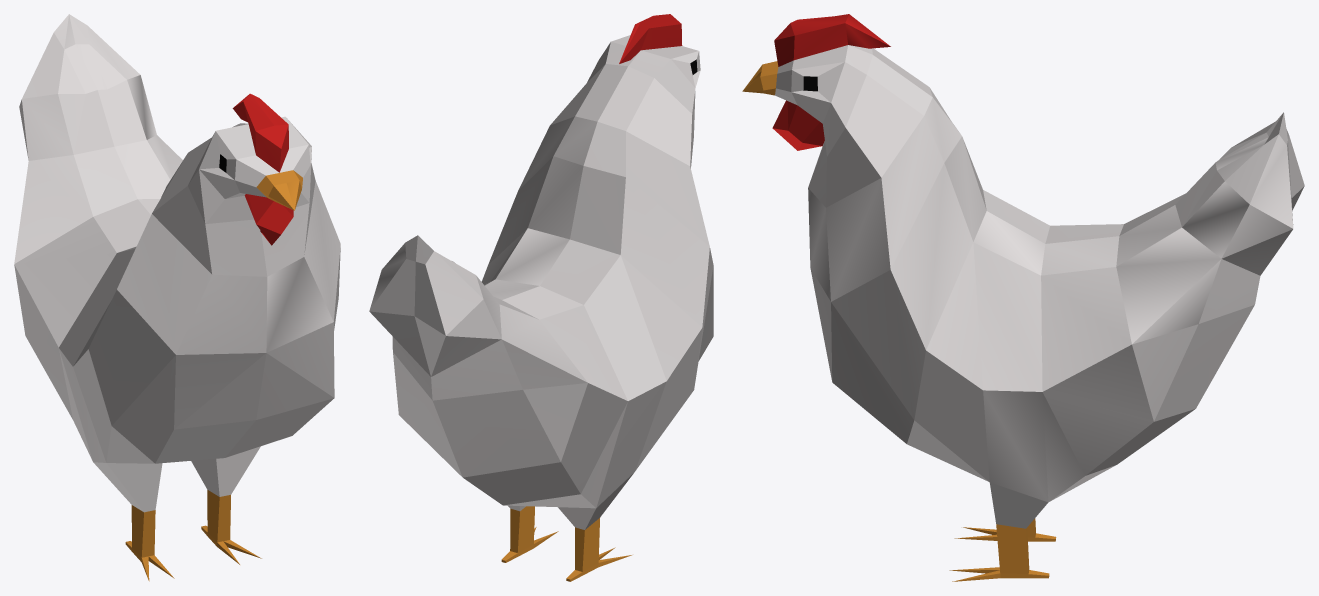
Rendered from chicken2.glb.
The picture shows the model from 3 angles, left to right: view 1: azimuth 30°, elevation 25°; view 2: azimuth 150°, elevation 25°; view 3: azimuth 270°, elevation 25°; orthographic projection. The views are drawn at different scales.
Visible parts, largest first — view 1: chicken.003; view 2: chicken.003; view 3: chicken.003.
Boxes of the visible parts, x1=… form: chicken.003: x1=14, y1=14, x2=340, y2=581; chicken.003: x1=369, y1=14, x2=713, y2=581; chicken.003: x1=742, y1=14, x2=1304, y2=581.
Bounding box in the file's own units: 0.4881 × 0.9969 × 0.9447.
